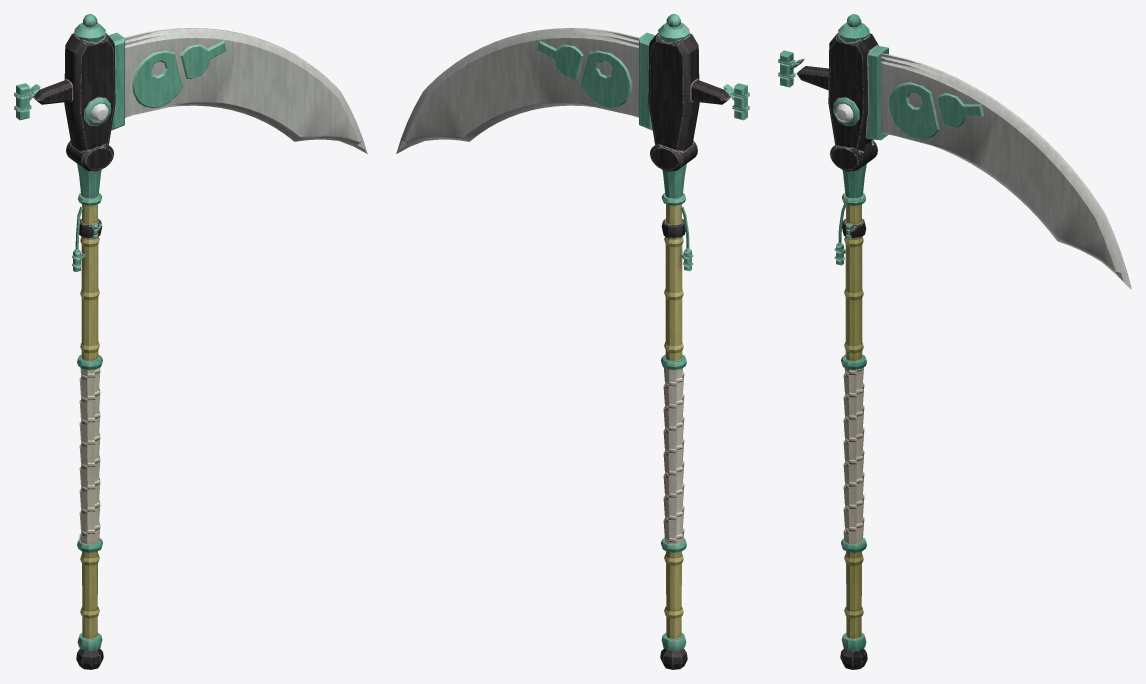
Rendered from Paddyreaper.fbx.
3 renders of one model, left to right at view 1: azimuth 30°, elevation 25°; view 2: azimuth 150°, elevation 25°; view 3: azimuth 330°, elevation 25°, orthographic.
Visible parts, largest first — view 1: Paddyreaper_Body; view 2: Paddyreaper_Body; view 3: Paddyreaper_Body.
Boxes of the visible parts, bbox=[...] form: Paddyreaper_Body: bbox=[14, 14, 367, 669]; Paddyreaper_Body: bbox=[396, 14, 749, 669]; Paddyreaper_Body: bbox=[778, 14, 1131, 669].
Bounding box in the file's own units: 3.6 × 6.41 × 0.39.
